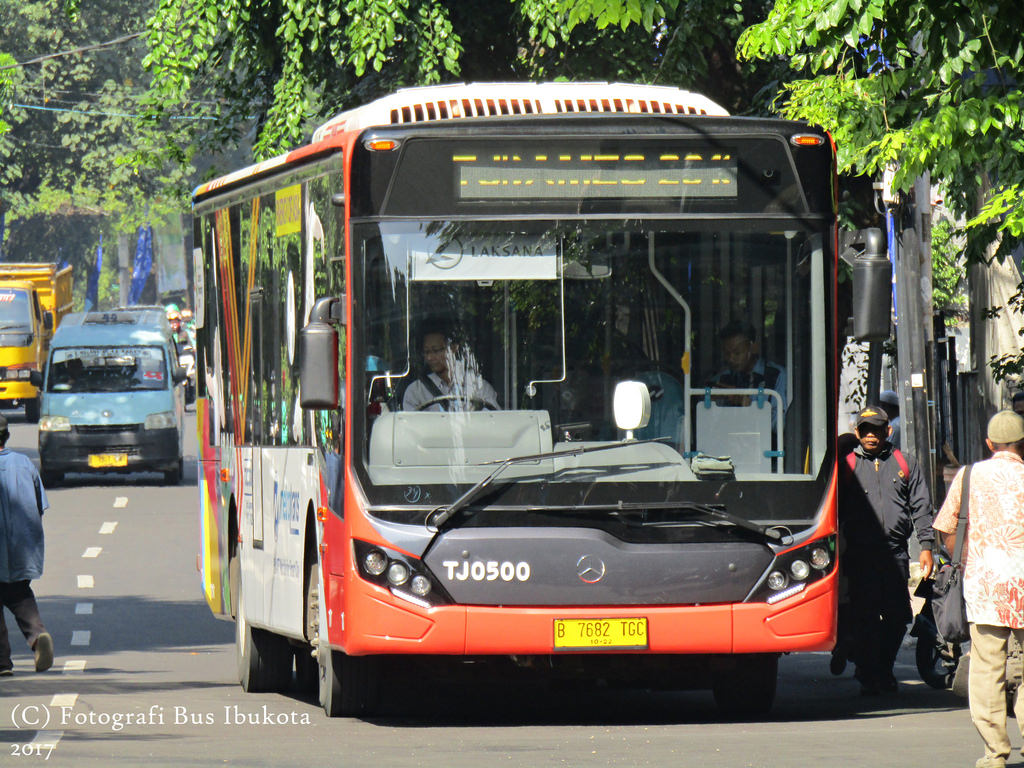plate: (554, 620, 647, 654)
